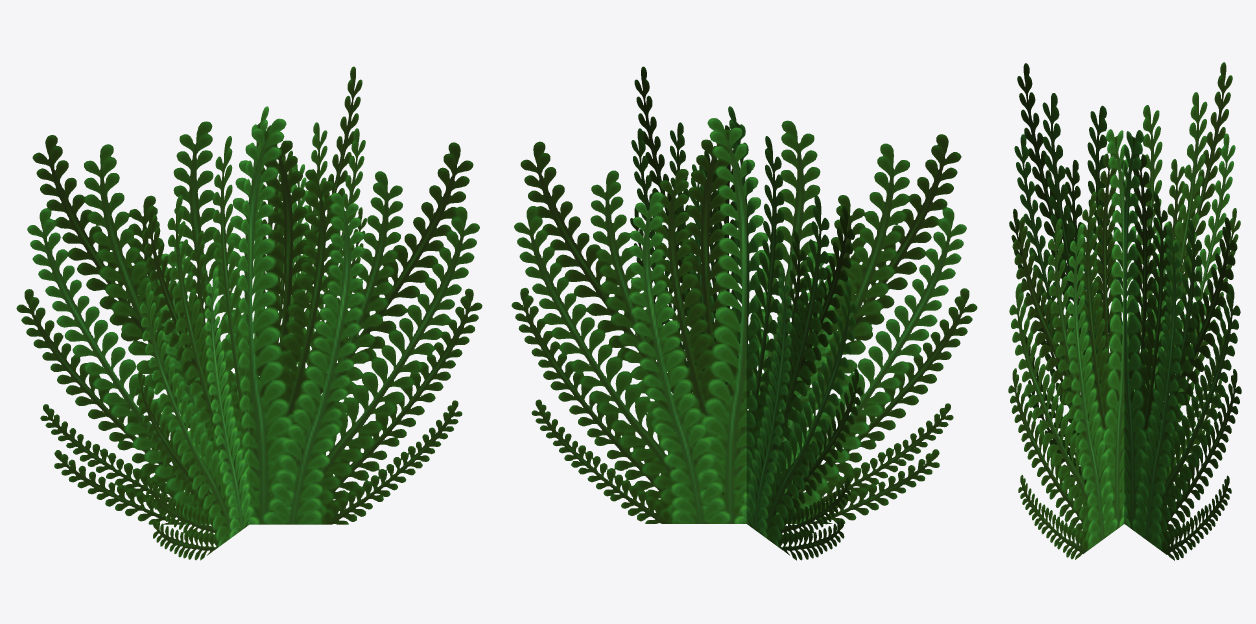
File: SeaWeed_09b.FBX
The picture shows the model from 3 angles, left to right: view 1: azimuth 30°, elevation 25°; view 2: azimuth 150°, elevation 25°; view 3: azimuth 270°, elevation 25°; orthographic projection.
Parts seen in each view (by area): view 1: SeaWeed_09b; view 2: SeaWeed_09b; view 3: SeaWeed_09b.
Boxes of the visible parts, x1=… form: SeaWeed_09b: x1=16, y1=66, x2=482, y2=560; SeaWeed_09b: x1=511, y1=66, x2=977, y2=560; SeaWeed_09b: x1=1008, y1=62, x2=1241, y2=560.
Bounding box in the file's own units: 37.65 × 43.28 × 21.64.
